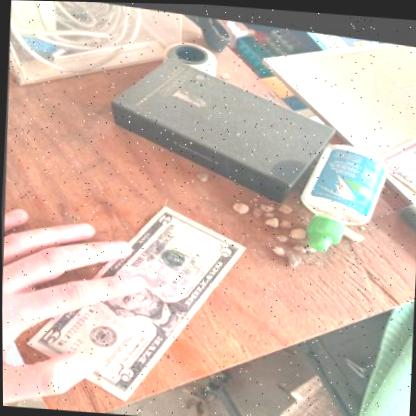dollar_front: (25, 202, 246, 399)
